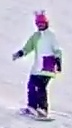snowboarder: (12, 10, 63, 122)
